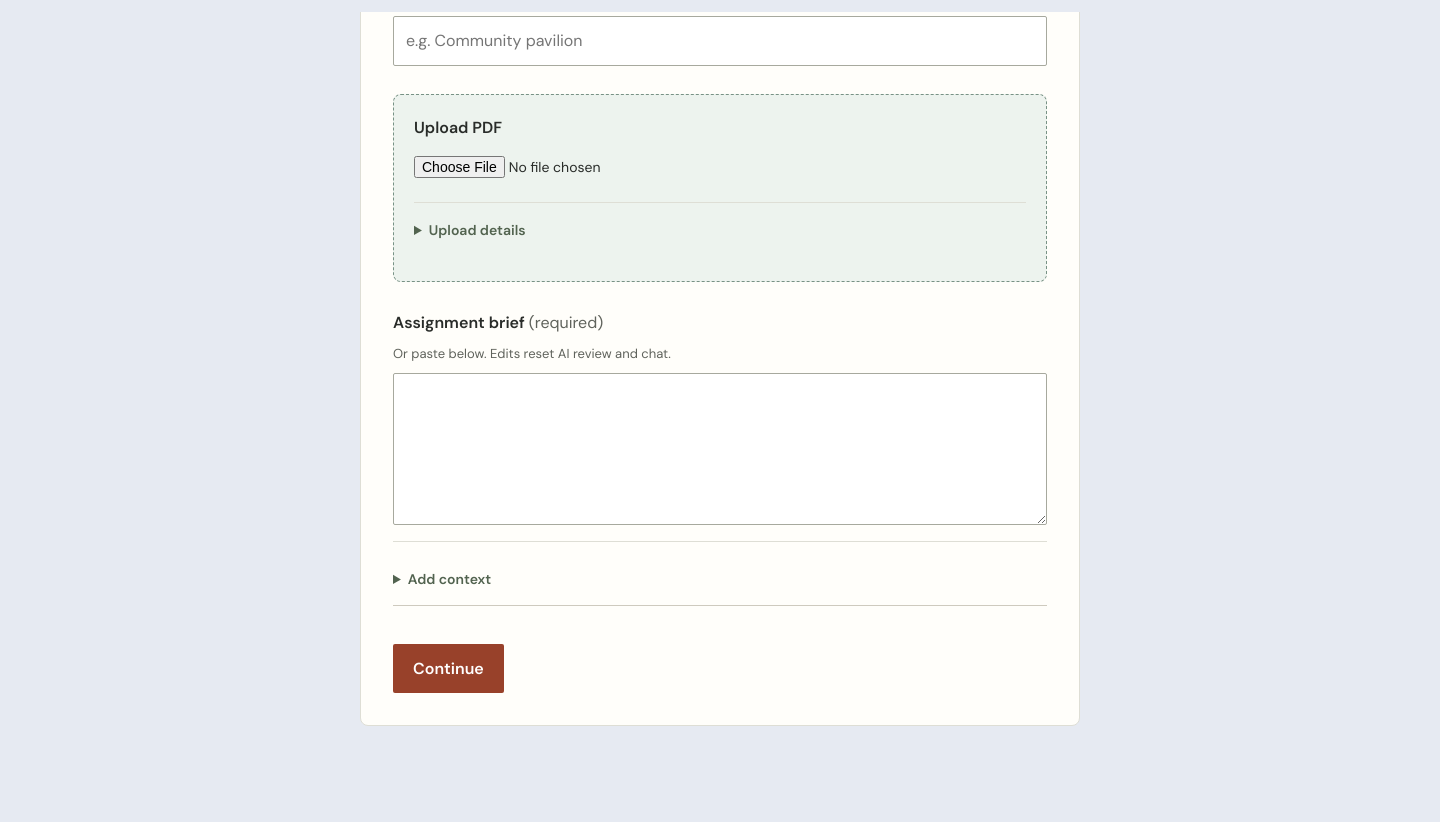
Studio Brainstorm drafts › keeps the notes available and reports a failed save
The width and height of the screenshot is (1440, 822).
(page scrolled)
Type "Study light and shelter." into the text box labelled "Assignment brief (required)". click: (720, 449)
box: [393,373,1047,525]
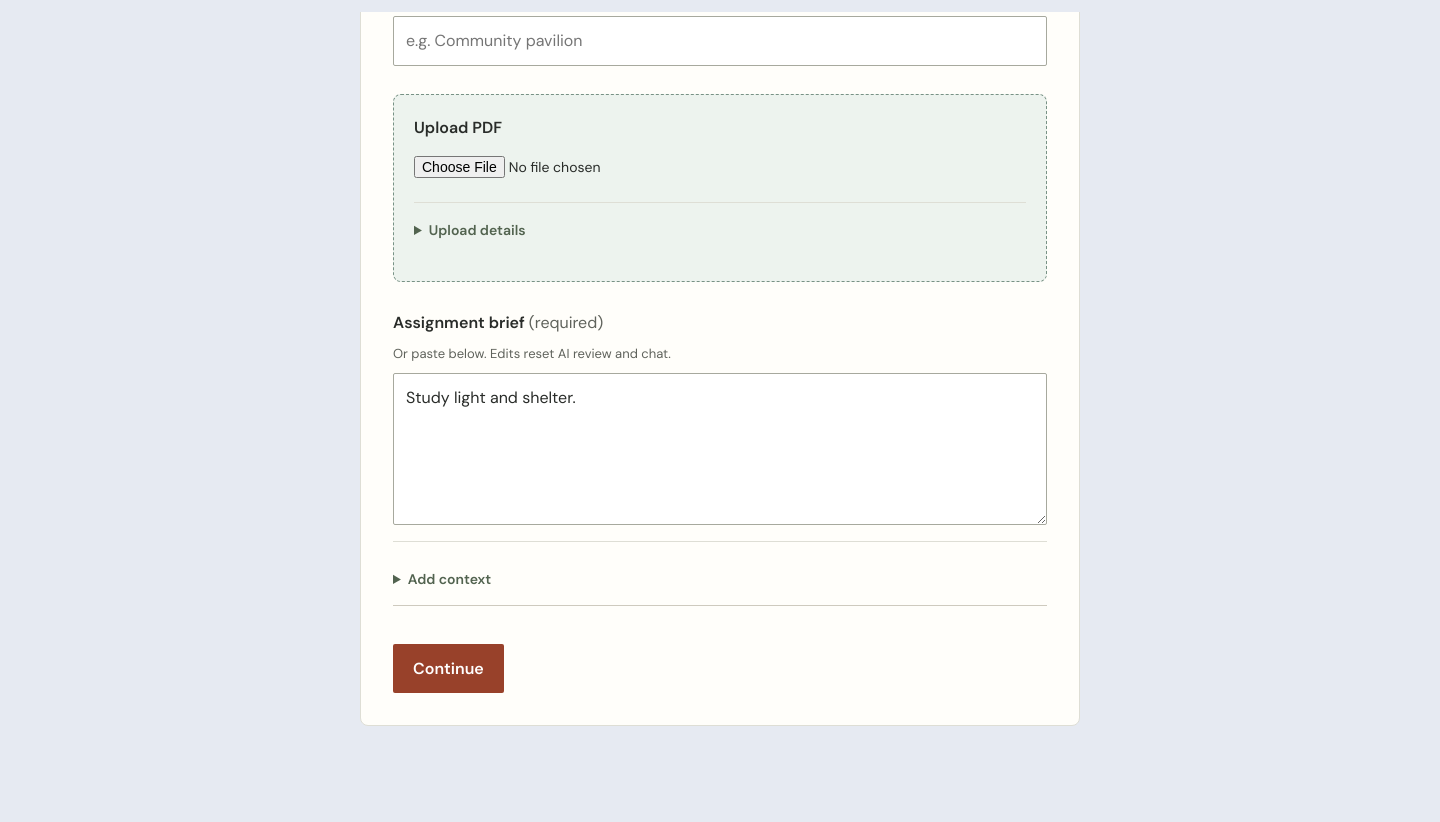
Click the button "Continue". click: (448, 669)
box: [393,644,504,693]
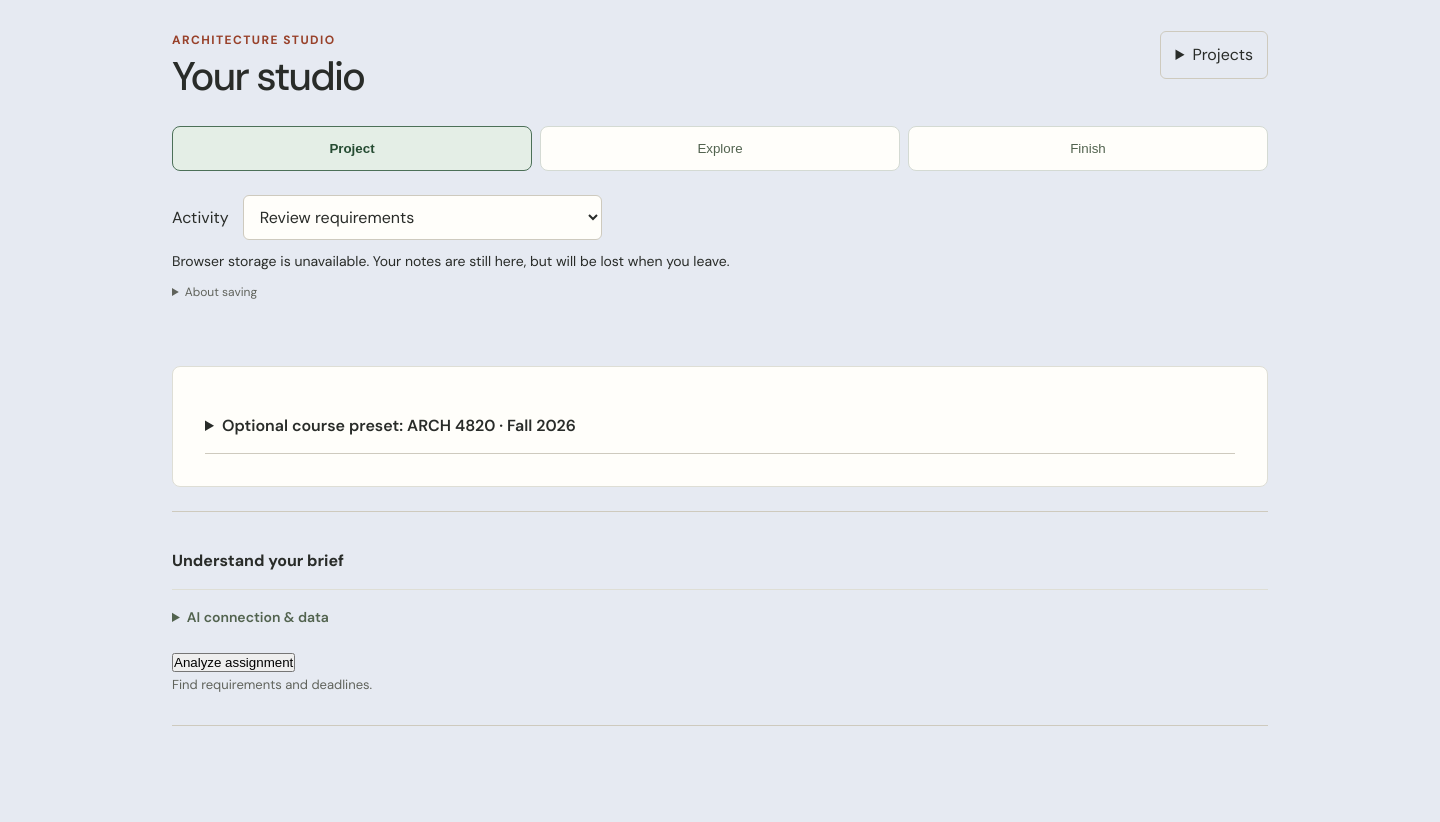
Expected: the message shows "storage is unavailable", [172,252,730,270]
Select "Assignment brief" in the dropdown labelled "Activity". click: (422, 218)
box: [243,195,602,240]
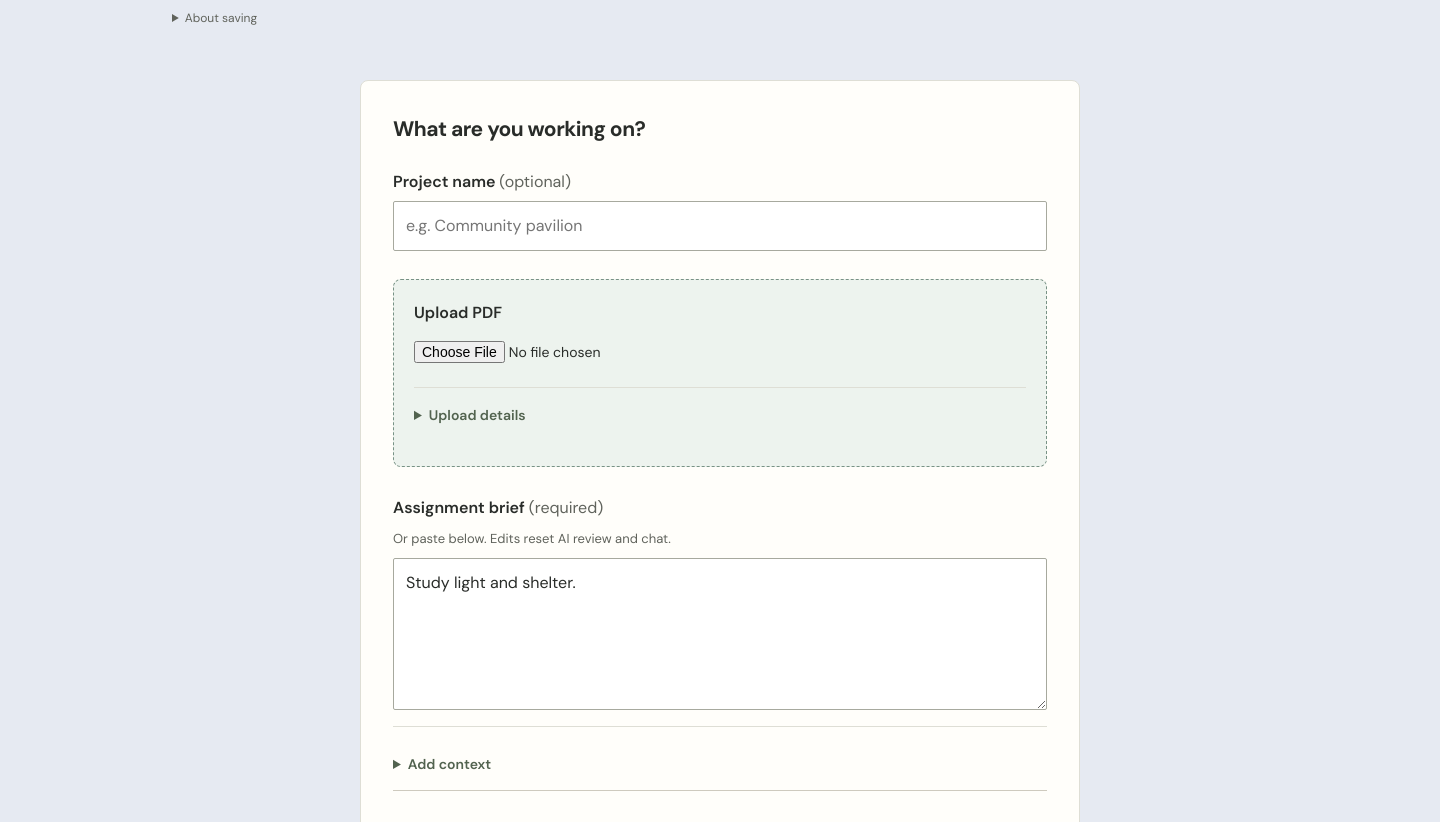
Expected: the text box labelled "Assignment brief (required)" holds "Study light and shelter.", [393,558,1047,710]
